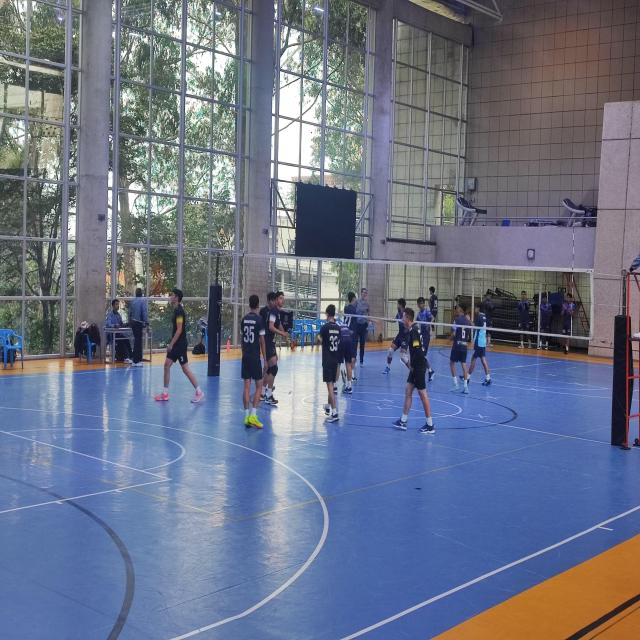volleyball: (80, 321, 89, 331)
